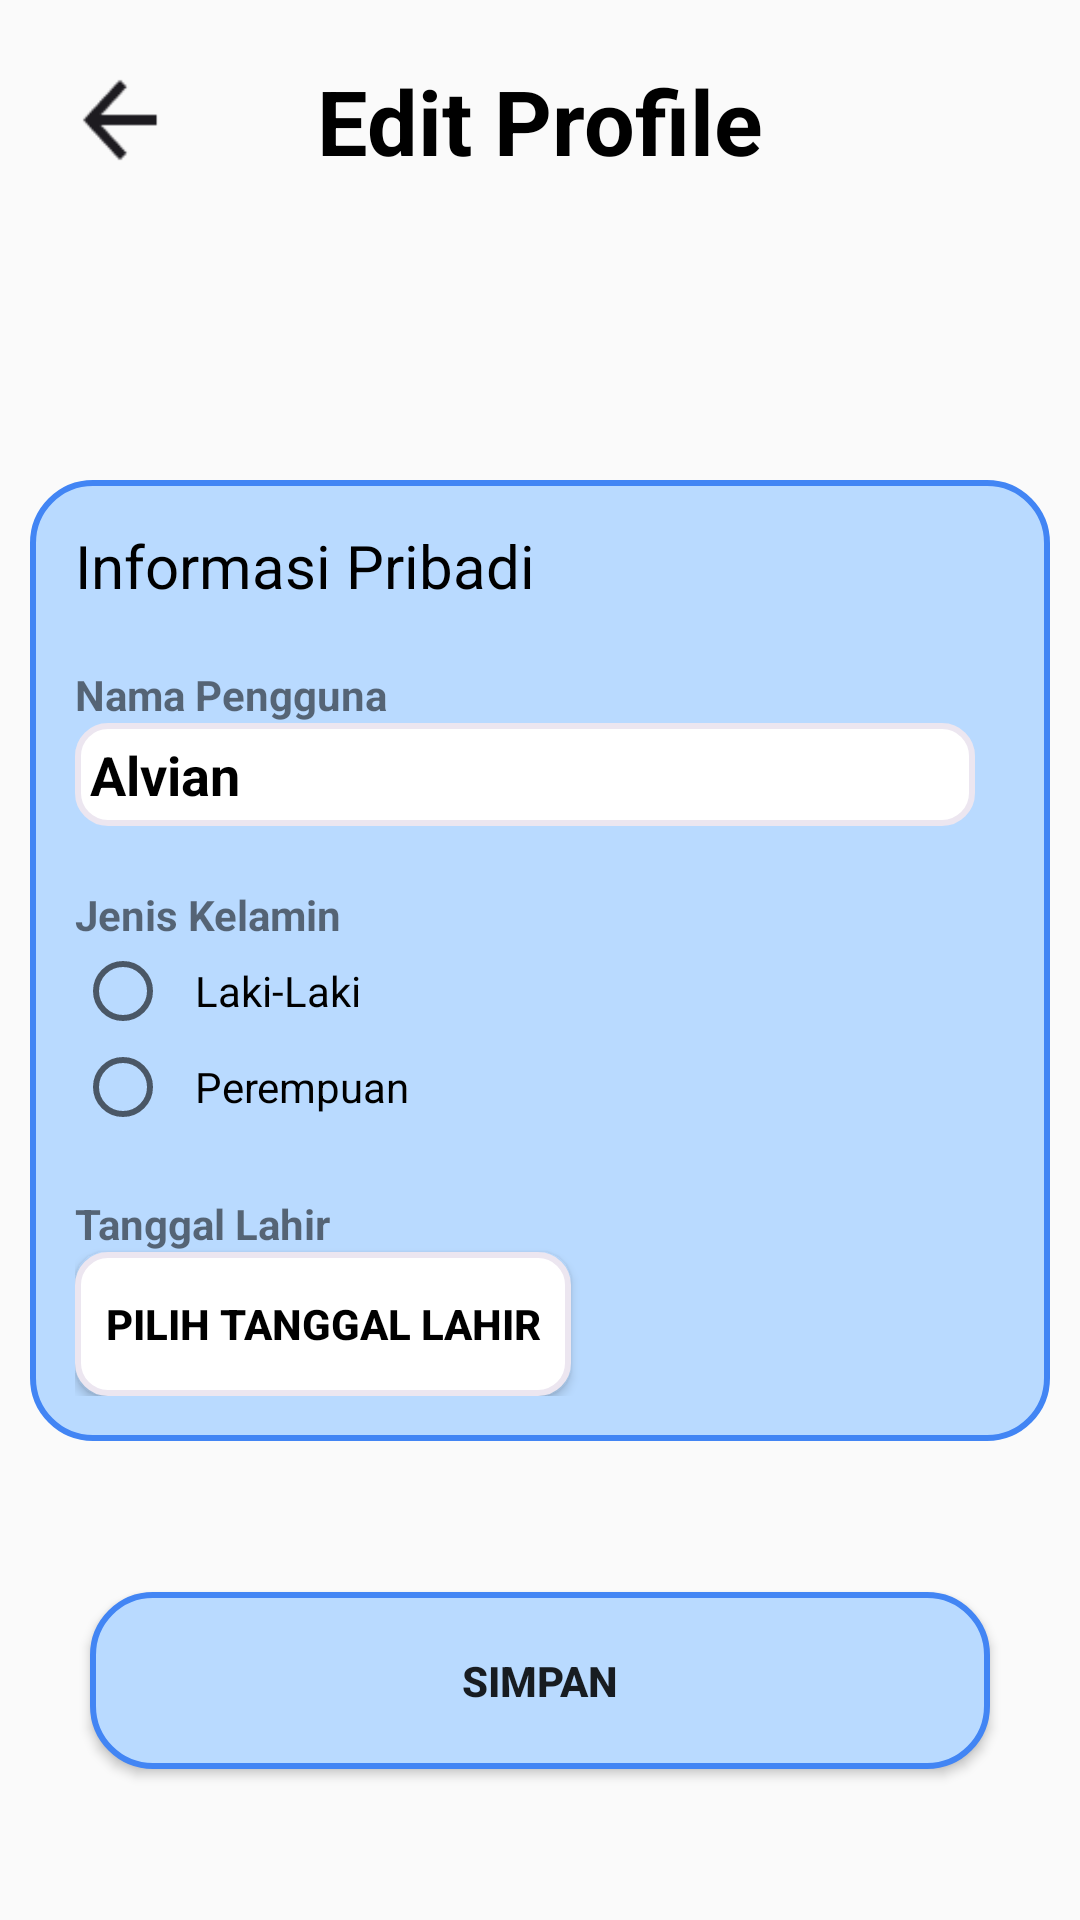

Where icons sit on this 1080px x 1920px app screen, as (x1, y1, x2, y2):
arrow back: (83, 80, 157, 160)
